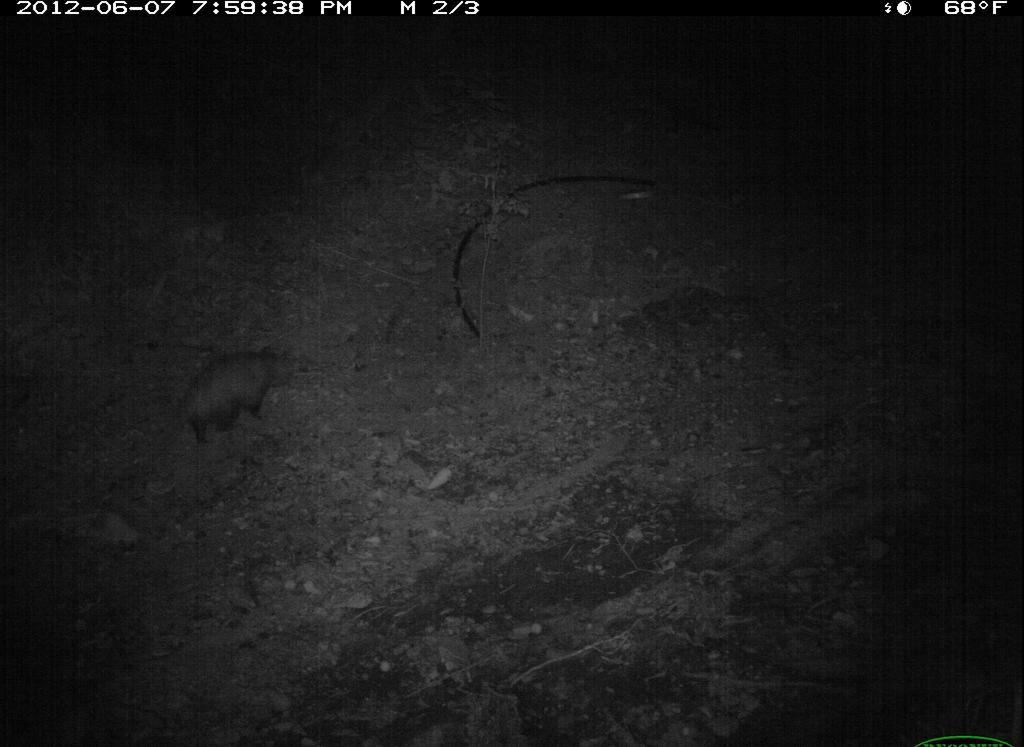opossum: (148, 341, 306, 478)
